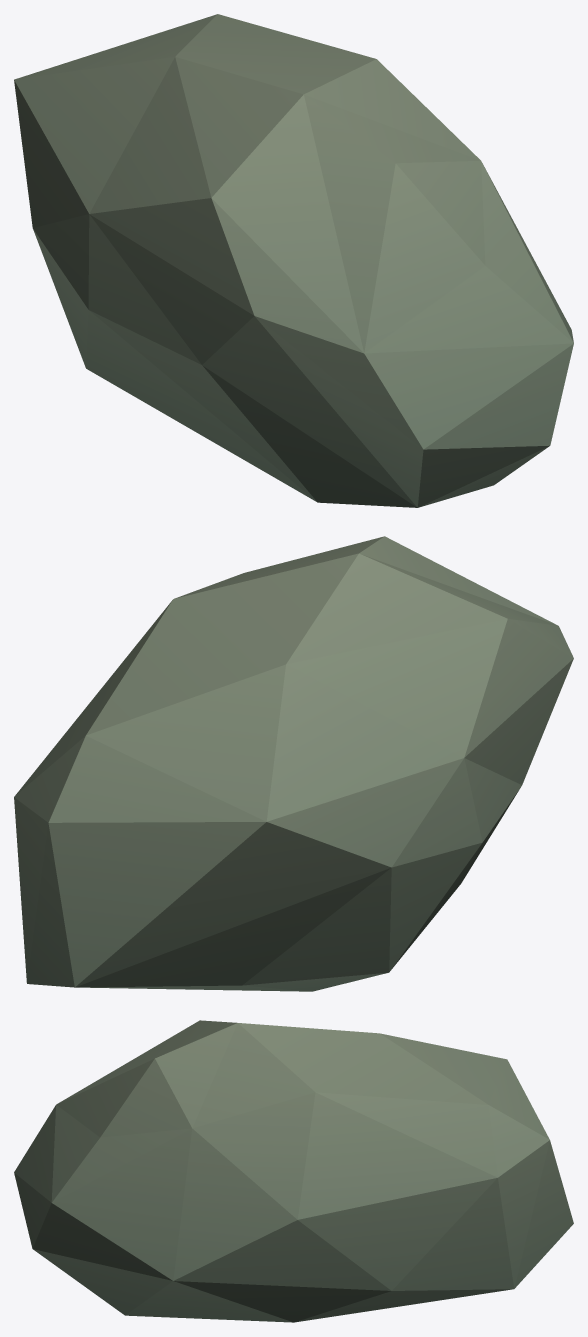
Rendered from Rock_Big_3.fbx.
The picture shows the model from 3 angles, top to bottom: view 1: azimuth 30°, elevation 25°; view 2: azimuth 150°, elevation 25°; view 3: azimuth 270°, elevation 25°; orthographic projection. The views are drawn at different scales.
Parts seen in each view (by area): view 1: Rock_Big_3; view 2: Rock_Big_3; view 3: Rock_Big_3.
Part boxes in pixels (left/top/right/bottom): Rock_Big_3: left=14, top=14, right=573, bottom=507; Rock_Big_3: left=14, top=536, right=573, bottom=991; Rock_Big_3: left=14, top=1020, right=573, bottom=1322.
Bounding box in the file's own units: 267 × 258 × 468.
